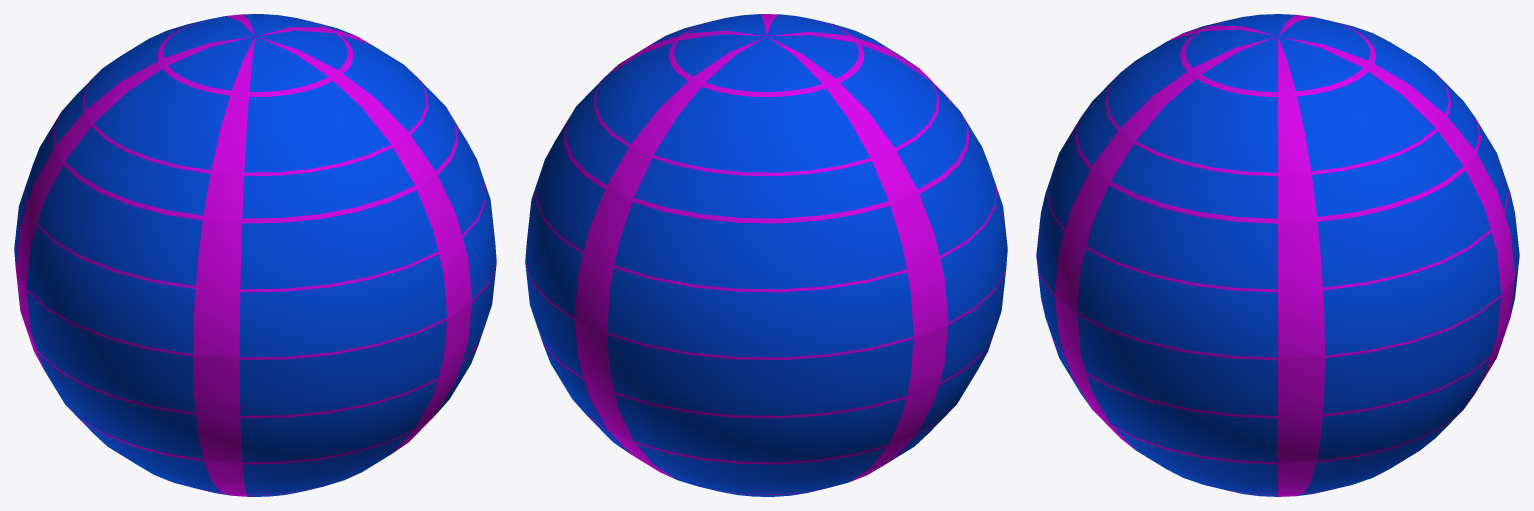
3 views of the same model, side by side, from view 1: azimuth 30°, elevation 25°; view 2: azimuth 150°, elevation 25°; view 3: azimuth 270°, elevation 25° (orthographic).
Visible parts, largest first — view 1: Sphere.001; view 2: Sphere.001; view 3: Sphere.001.
Boxes of the visible parts, bbox=[...] form: Sphere.001: bbox=[14, 14, 496, 496]; Sphere.001: bbox=[525, 14, 1007, 496]; Sphere.001: bbox=[1036, 14, 1519, 496].
Size of the model in its own units: 1 by 1 by 1.
